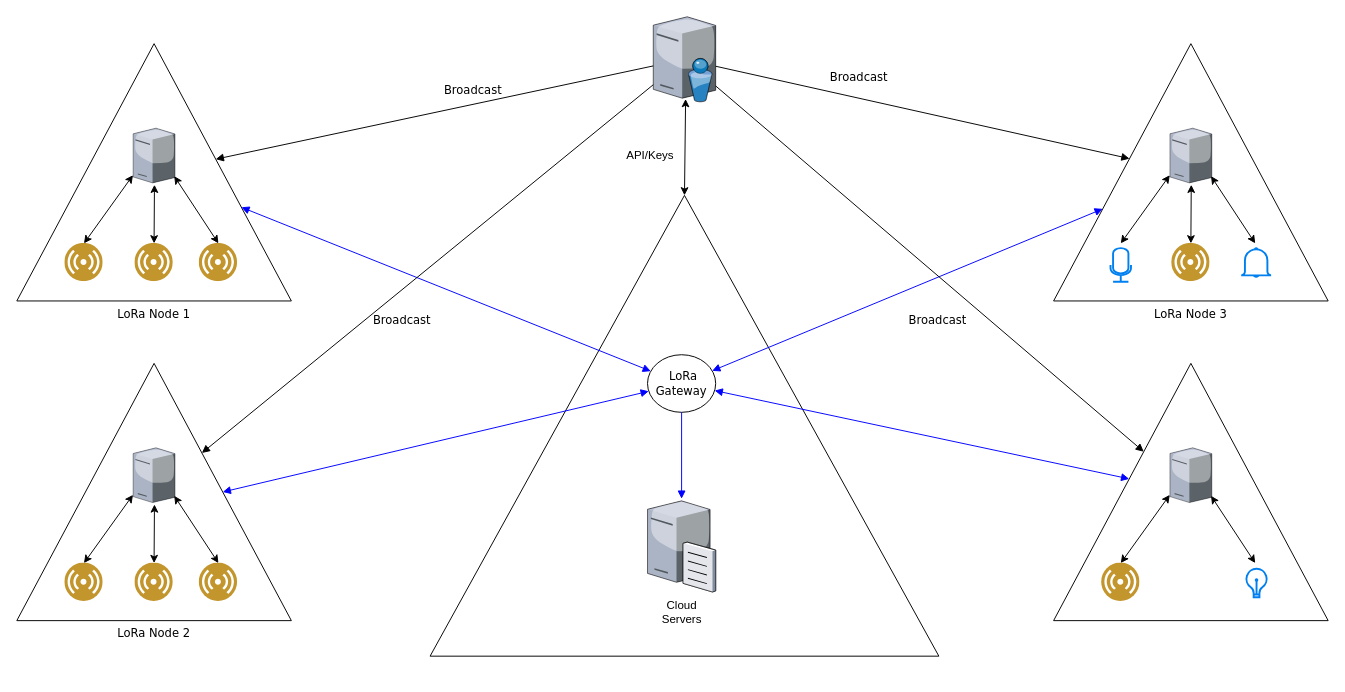
Some shapes in this 1345 by 692 pixel diagram are drawn without their labels. Here are the shapes that lost their labels. From the top down, the box of each, then its label:
(429, 194, 939, 656): Internet
(1053, 362, 1328, 621): LoRa Node 4
